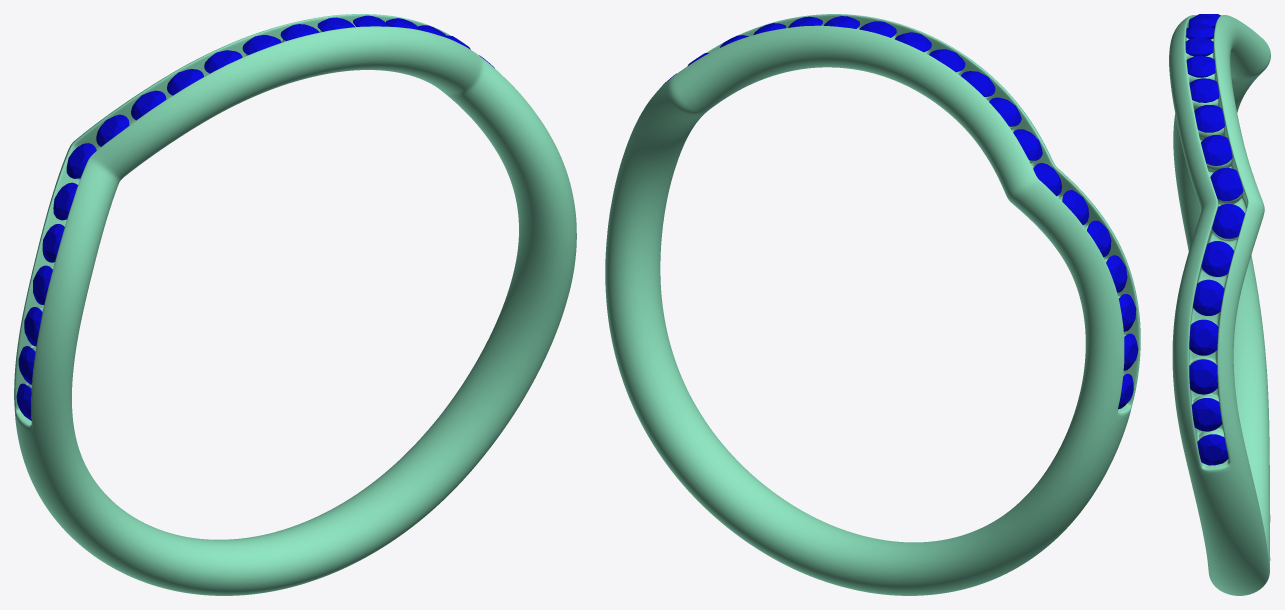
The picture shows the model from 3 angles, left to right: view 1: azimuth 30°, elevation 25°; view 2: azimuth 150°, elevation 25°; view 3: azimuth 270°, elevation 25°; orthographic projection. The views are drawn at different scales.
Parts seen in each view (by area): view 1: Metal03; view 2: Metal03; view 3: Metal03, Diamond_Band.008, Diamond_Band.007, Diamond_Band.006, Diamond_Band.009, Diamond_Band.005, Diamond_Band.010, Diamond_Band.004, Diamond_Band.011, Diamond_Band.003, Diamond_Band.002, Diamond_Band.001 (+4 smaller).
Boxes of the visible parts, box(x1,y1,x2,y2) form: Metal03: box(14, 14, 576, 595); Metal03: box(605, 14, 1140, 595); Metal03: box(1169, 15, 1270, 595); Diamond_Band.008: box(1189, 319, 1218, 355); Diamond_Band.007: box(1193, 279, 1224, 315); Diamond_Band.006: box(1201, 241, 1233, 276); Diamond_Band.009: box(1189, 359, 1217, 394); Diamond_Band.005: box(1212, 204, 1244, 238); Diamond_Band.010: box(1191, 398, 1222, 431); Diamond_Band.004: box(1210, 168, 1243, 200); Diamond_Band.011: box(1197, 434, 1228, 465); Diamond_Band.003: box(1201, 135, 1232, 165); Diamond_Band.002: box(1194, 105, 1224, 132); Diamond_Band.001: box(1189, 78, 1219, 102).
Bounding box in the file's own units: 20.71 × 20.79 × 3.64.
